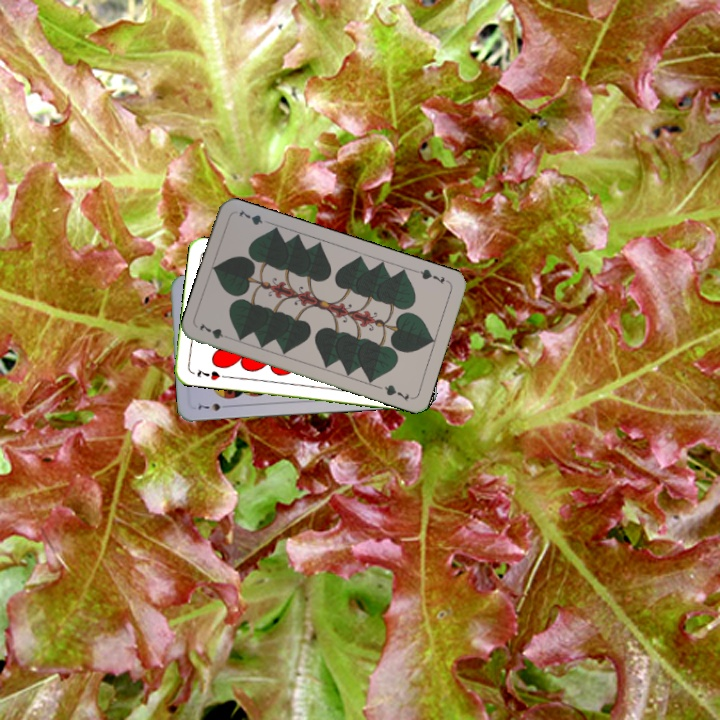G7: (195, 319, 235, 342), (412, 265, 451, 287)
H7: (193, 366, 223, 383)
S7: (194, 399, 233, 413)
